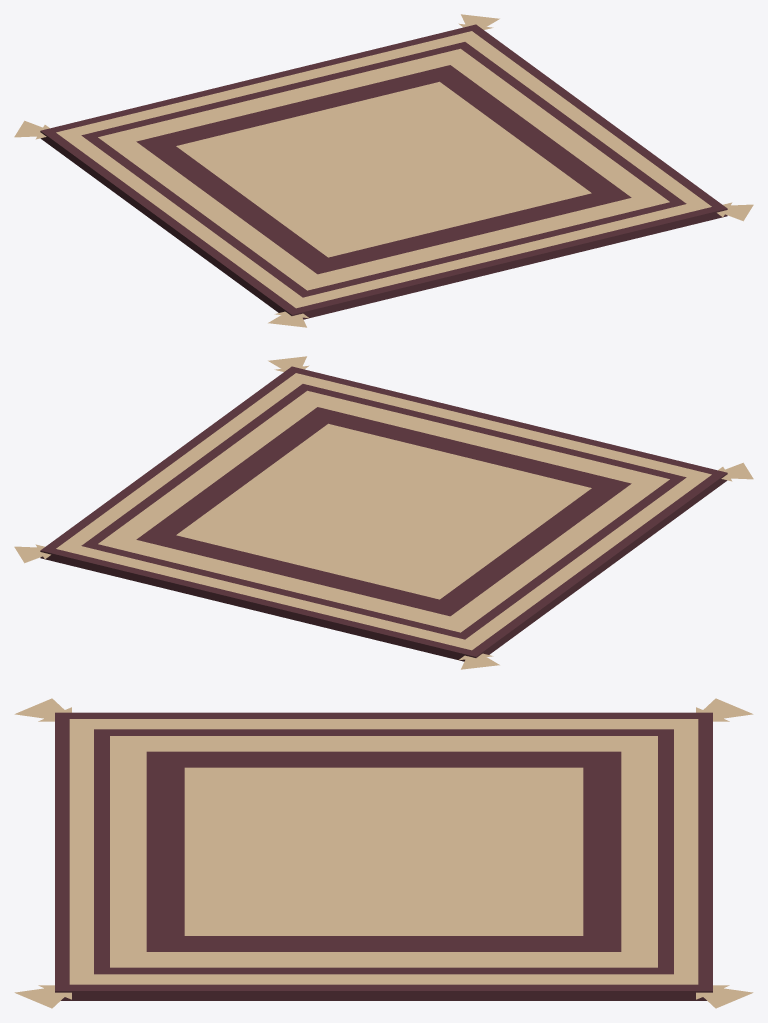
Rendered from empire-carpet-medium-empire.glb.
3 views of the same model, one above another, from view 1: azimuth 30°, elevation 25°; view 2: azimuth 150°, elevation 25°; view 3: azimuth 270°, elevation 25° (orthographic). The views are drawn at different scales.
Parts seen in each view (by area): view 1: SM_Carpet_Medium_Empire; view 2: SM_Carpet_Medium_Empire; view 3: SM_Carpet_Medium_Empire.
Part boxes in pixels (box(x1,y1,x2,y2)): SM_Carpet_Medium_Empire: box(14, 14, 753, 327); SM_Carpet_Medium_Empire: box(14, 356, 753, 669); SM_Carpet_Medium_Empire: box(14, 698, 753, 1008).
Size of the model in its own units: 3.35 by 0.05 by 3.37.
